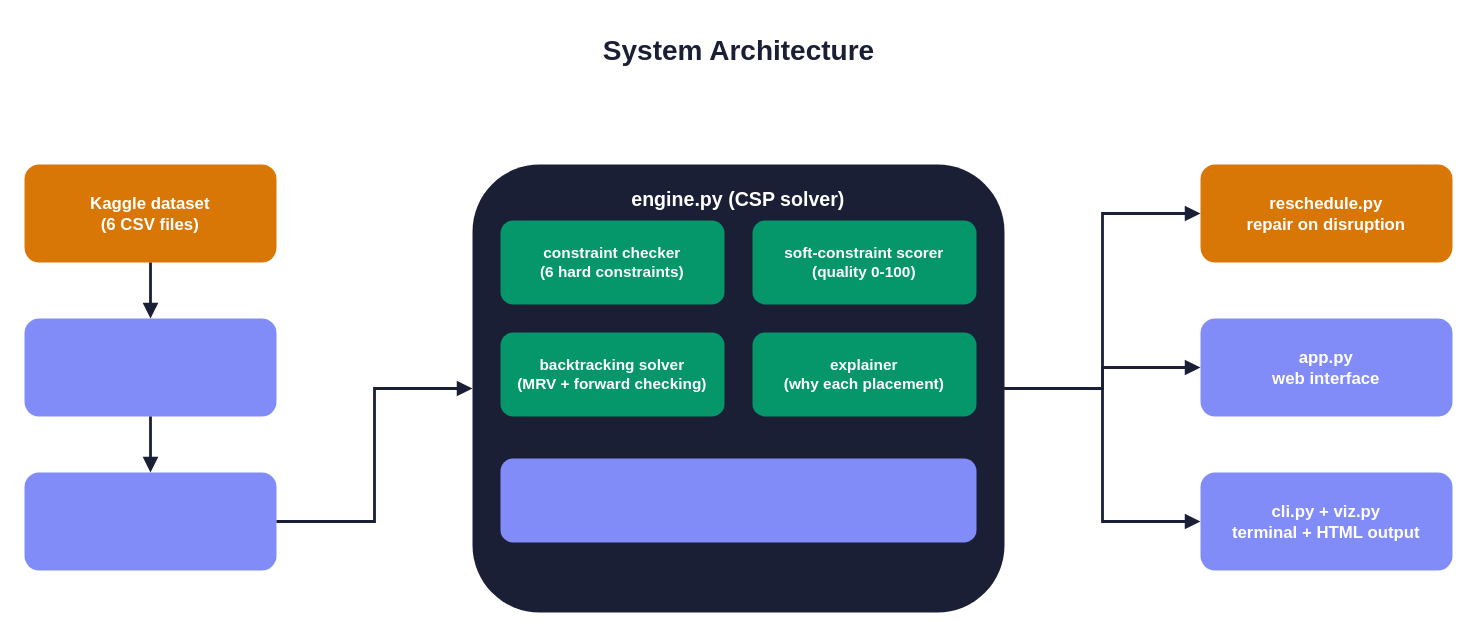
Some shapes in this 1476 by 636 pixel diagram are drawn without their labels. Each missing label, with the centre of its shape:
"clash-free timetable" goes at point 738,500.
"dataio.py load + clean + validate" goes at point 150,521.
"import_kaggle.py preprocessing (join 6 CSVs)" goes at point 150,367.
